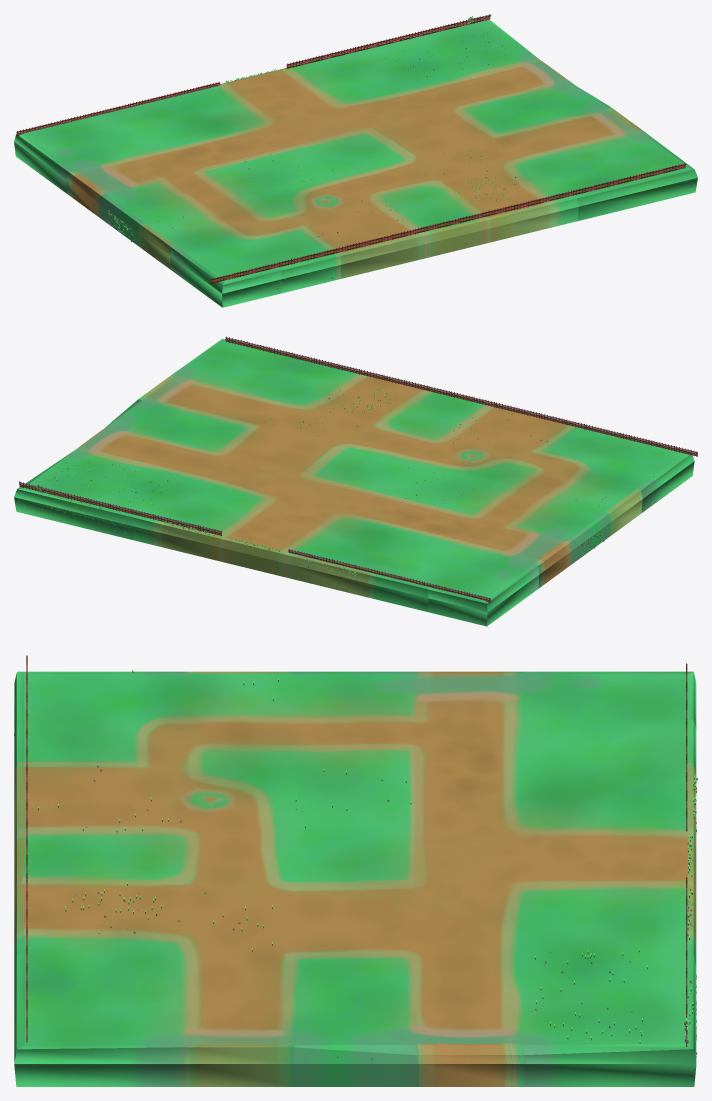
The model's file is base envi ratafbx.fbx.
The picture shows the model from 3 angles, top to bottom: view 1: azimuth 30°, elevation 25°; view 2: azimuth 150°, elevation 25°; view 3: azimuth 270°, elevation 25°; orthographic projection. The views are drawn at different scales.
Parts seen in each view (by area): view 1: Plane; view 2: Plane; view 3: Plane.
Part boxes in pixels (x1=…): Plane: x1=14, y1=14, x2=697, y2=307; Plane: x1=14, y1=336, x2=697, y2=626; Plane: x1=14, y1=655, x2=696, y2=1086.
Bounding box in the file's own units: 8318 × 520 × 6217.
